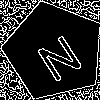N: (29, 26, 86, 84)
